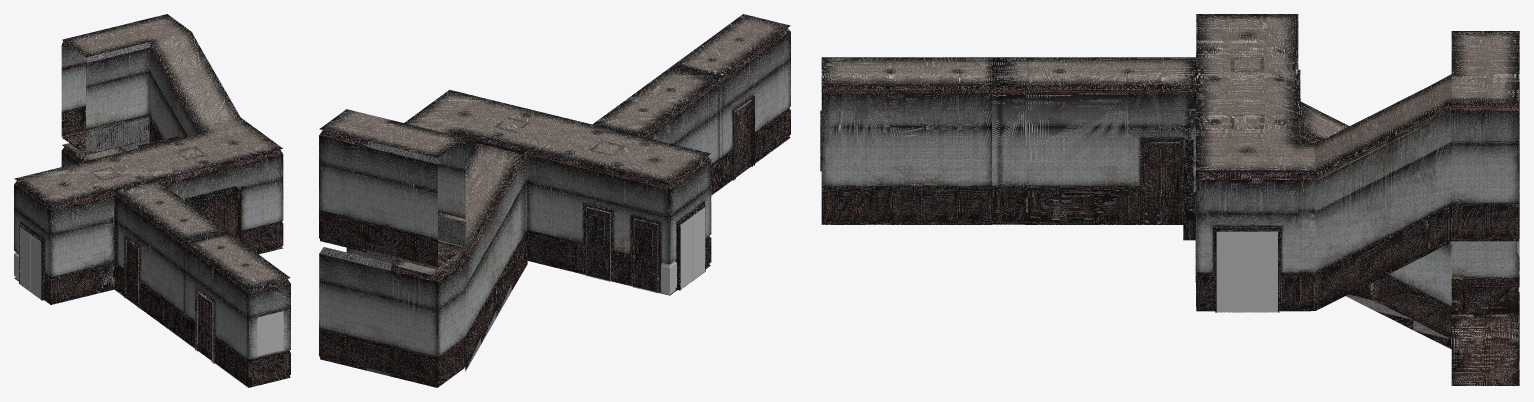
3 views of the same model, side by side, from view 1: azimuth 30°, elevation 25°; view 2: azimuth 150°, elevation 25°; view 3: azimuth 270°, elevation 25° (orthographic). The views are drawn at different scales.
Visible parts, largest first — view 1: skp1456 (×22); view 2: skp1456 (×21); view 3: skp1456 (×17).
Boxes of the visible parts, x1,y1,x2,y2 form: skp1456 (×22): (14,14,290,387); skp1456 (×21): (319,14,790,387); skp1456 (×17): (821,14,1519,385).
Bounding box in the file's own units: 493 × 904 × 413.
